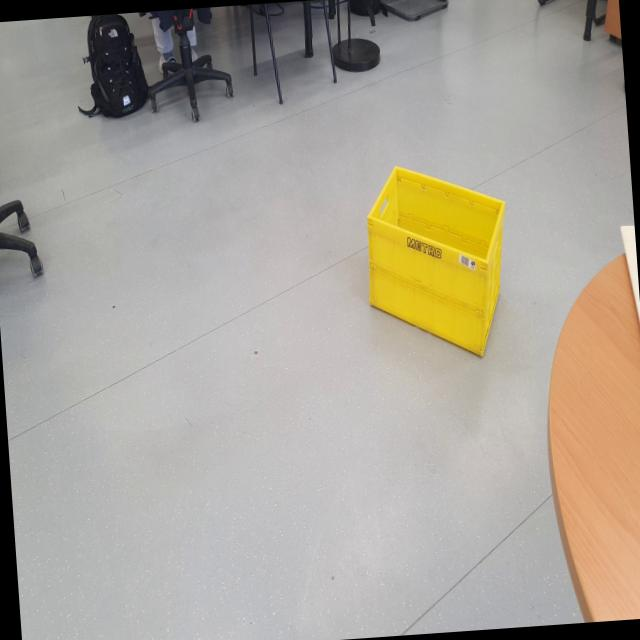box: (351, 144, 518, 373)
